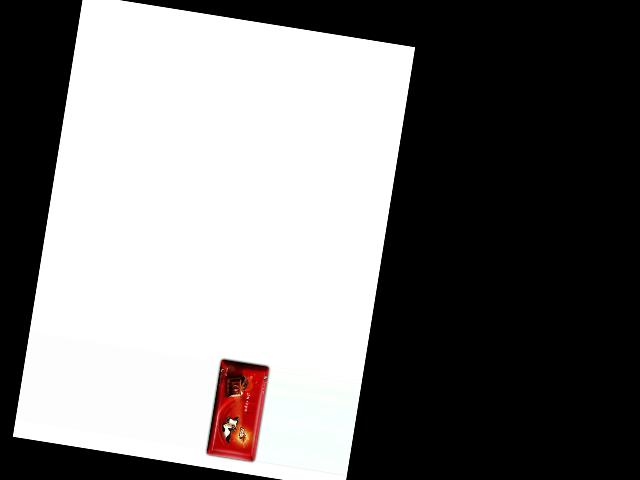chocolate: (201, 357, 269, 467)
